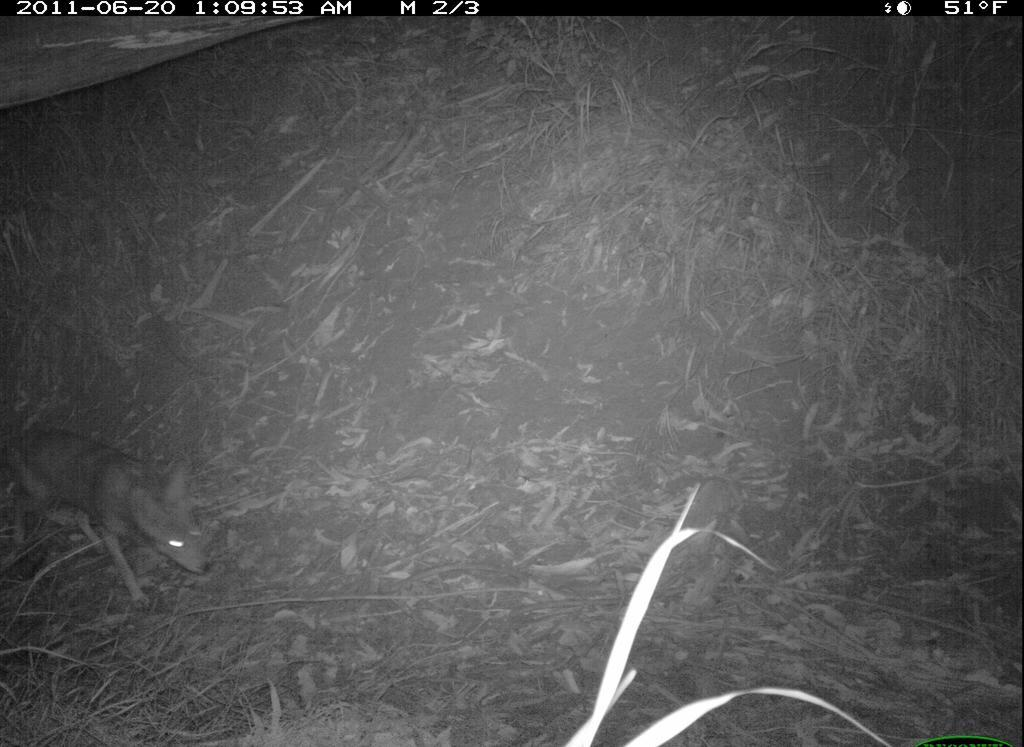coyote: (6, 415, 217, 623)
